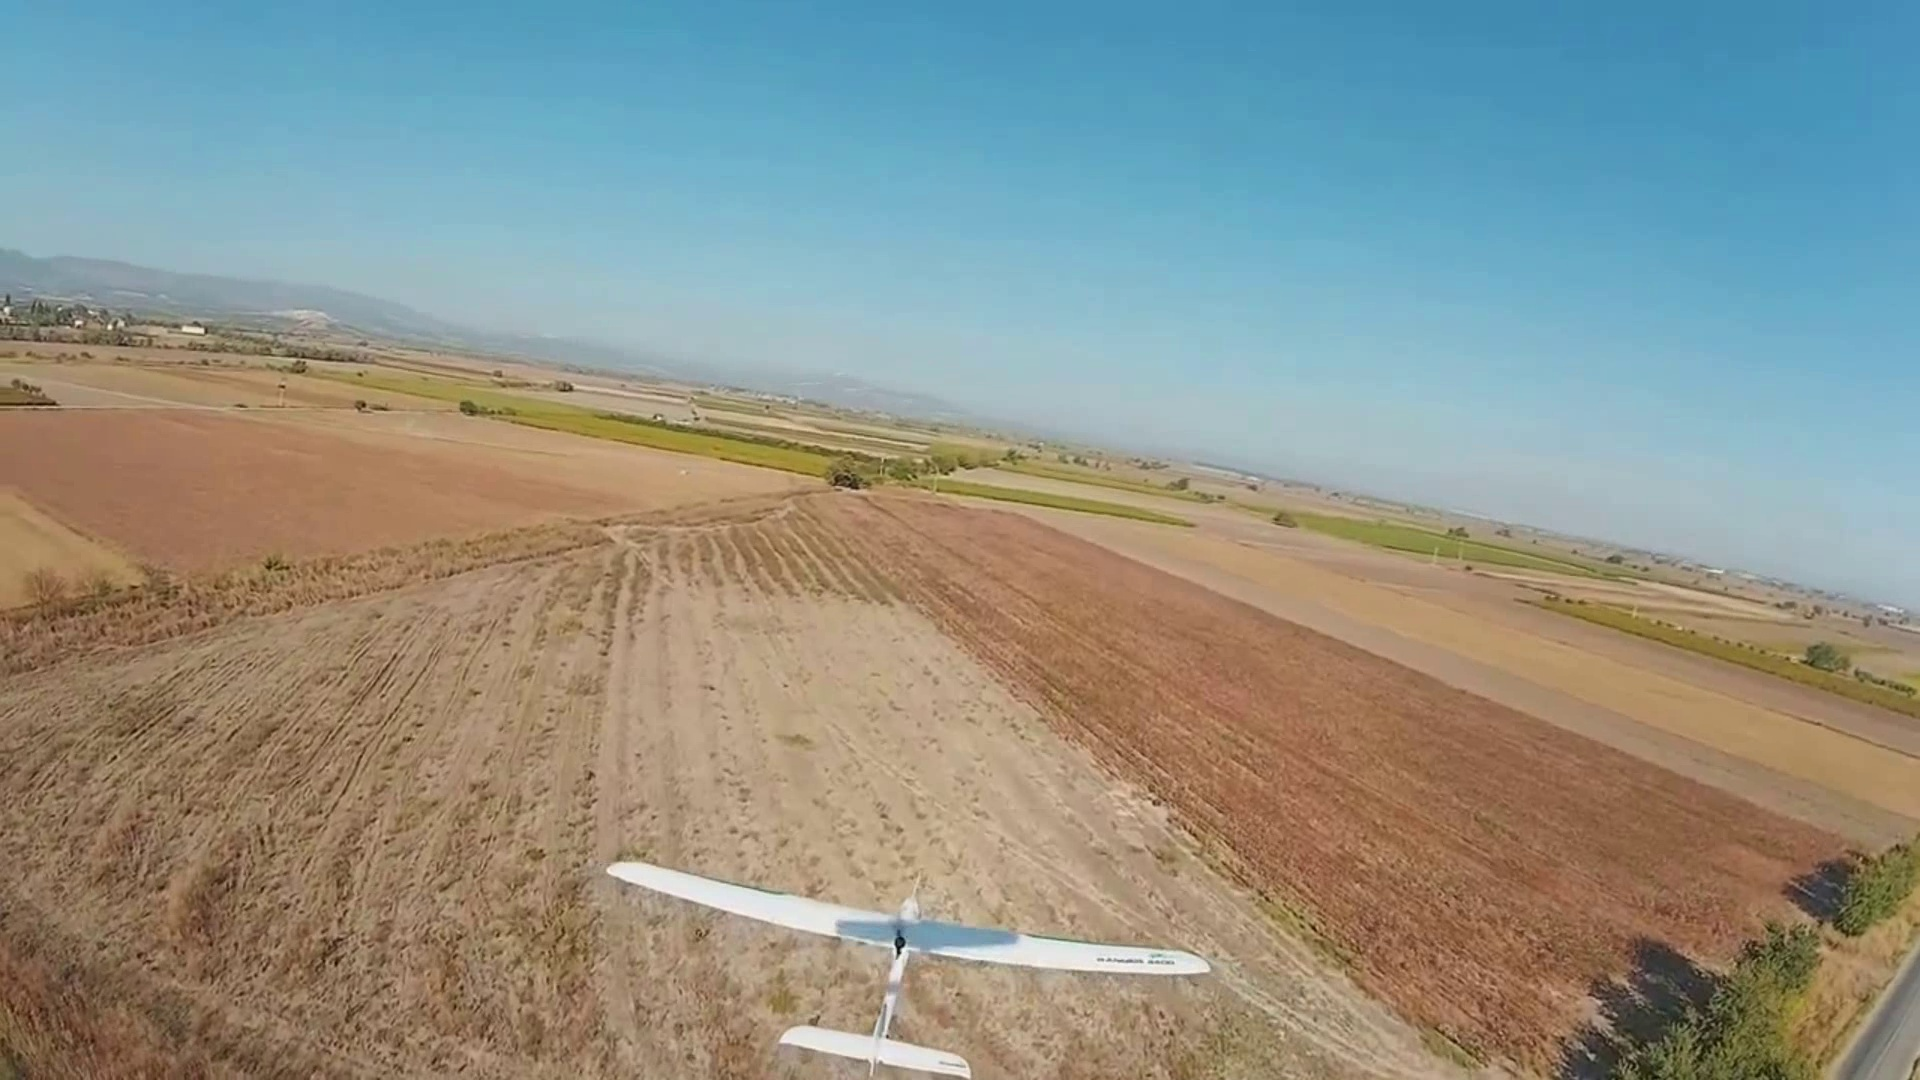airplane: (604, 858, 1212, 1069)
